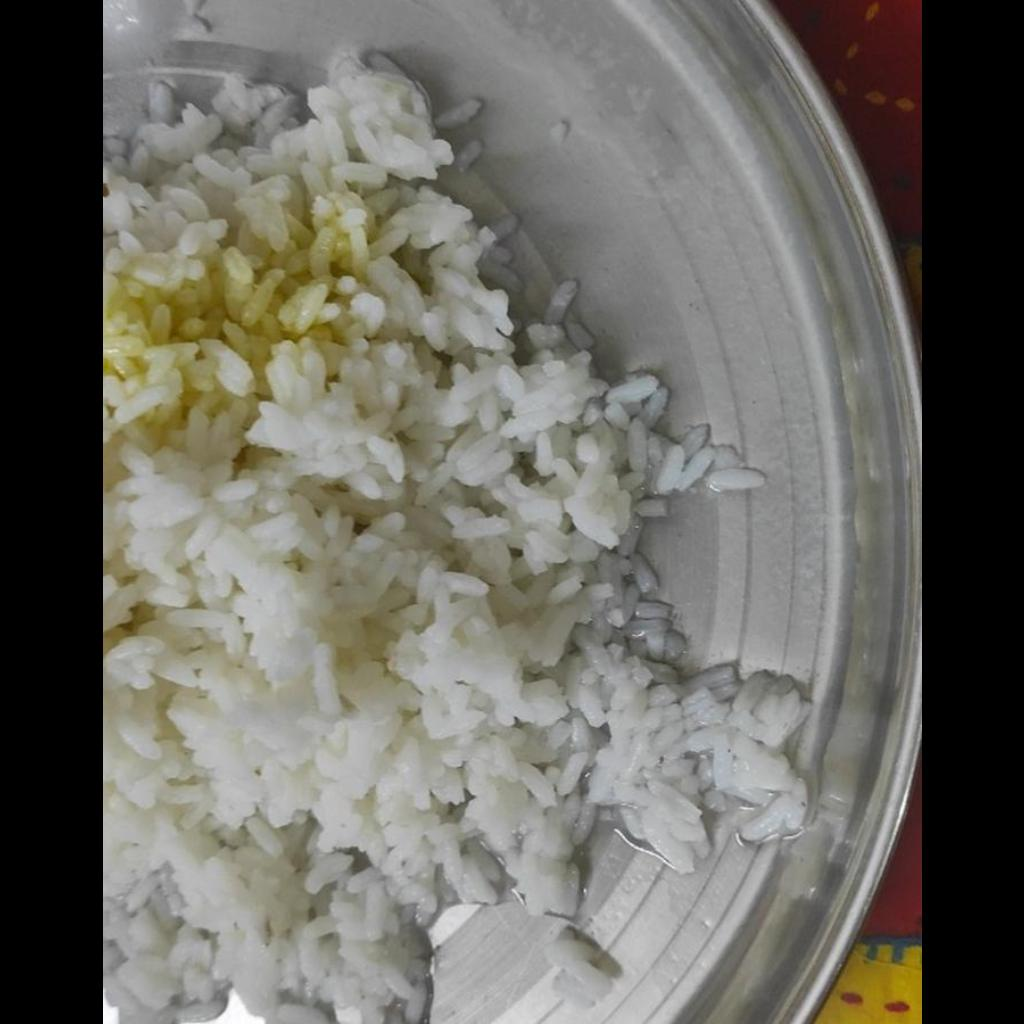rice: (108, 37, 813, 1023)
